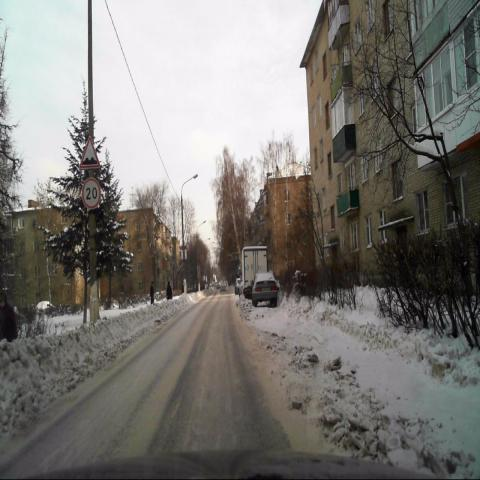1_16: (79, 137, 99, 169)
